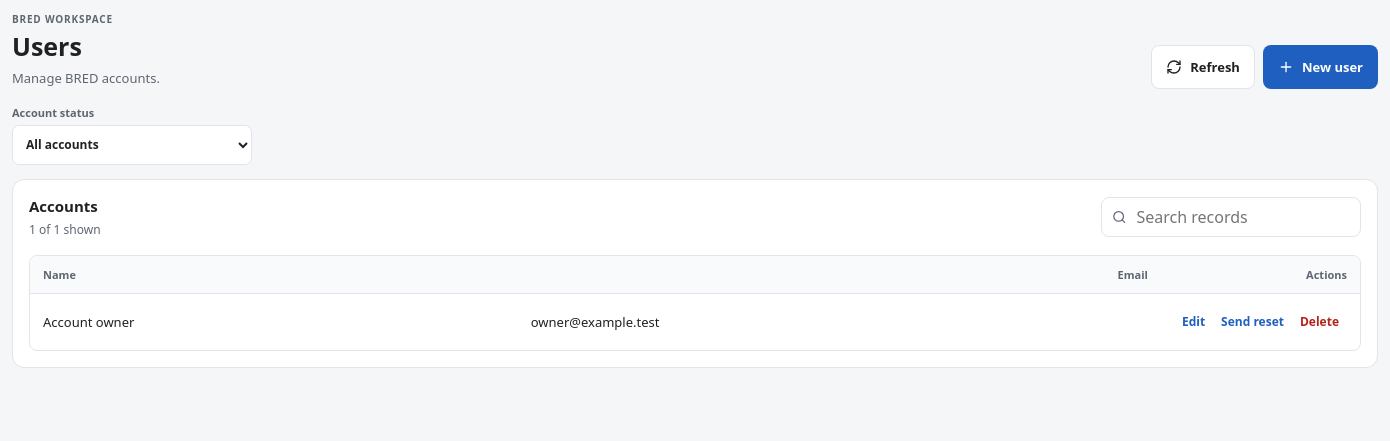
it: ModuleWorkspace › lets the Creator send a password reset email from Users
Expected: the text "Account owner" is shown, [30, 294, 518, 350]
What coordinates should you click on to do the following:
click the button "Send reset"
I would click on:
 (1253, 322)
Its box is [1213, 305, 1292, 339].
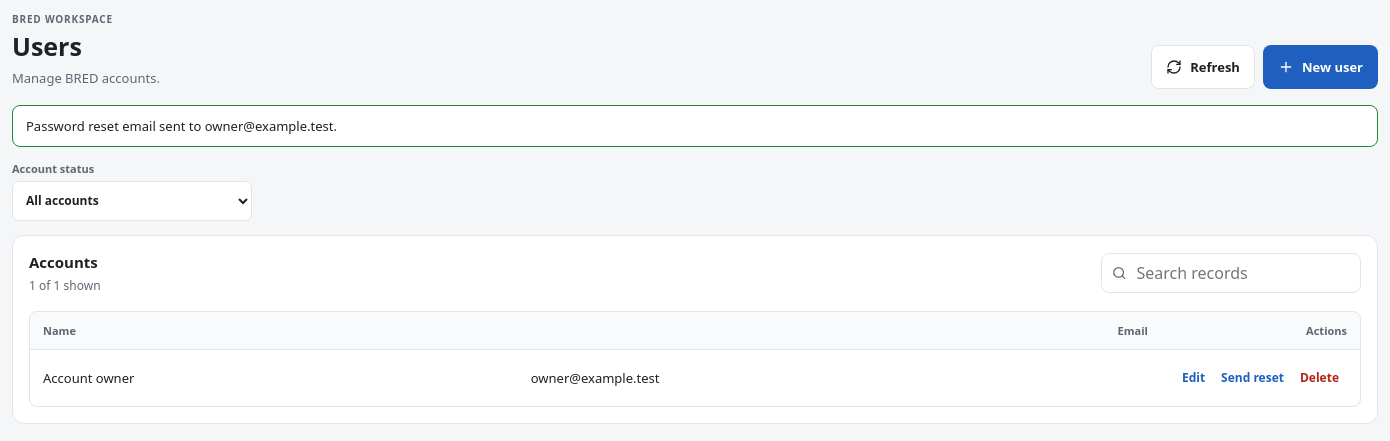
Result: the text "Password reset email sent to owner@example.test." is shown at [12, 105, 1378, 147]
